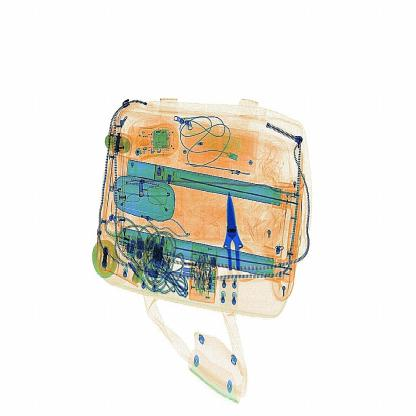gun: (206, 189, 262, 298)
